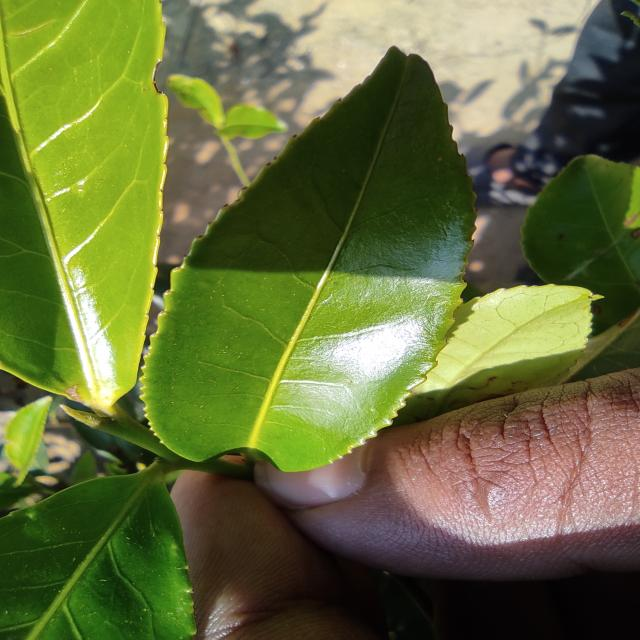Category C(4-7 days): (102, 36, 520, 471)
